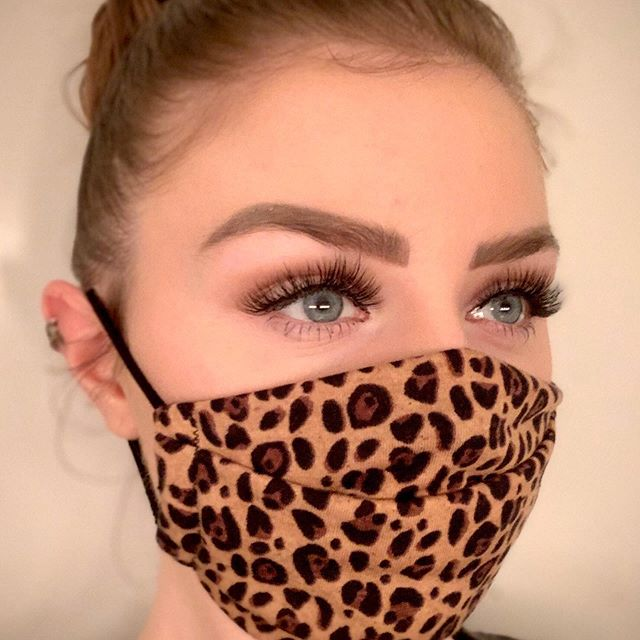homemade: (106, 325, 597, 638)
